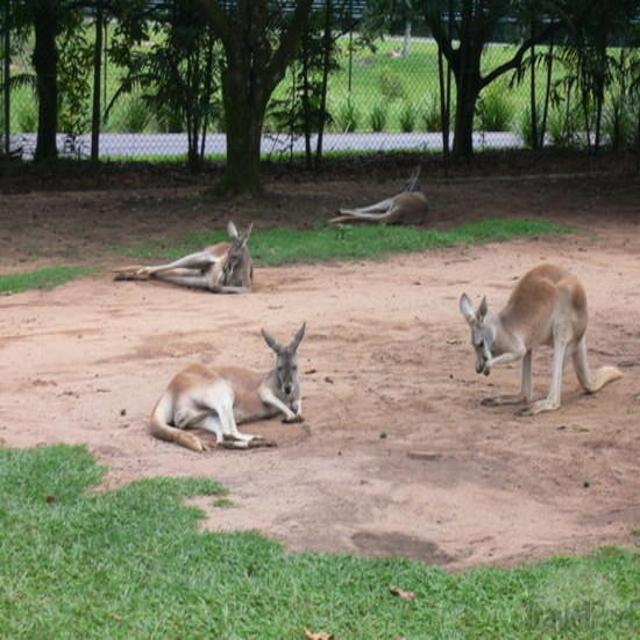kangaroo: (146, 315, 311, 460), (460, 260, 593, 415), (115, 219, 257, 293)
